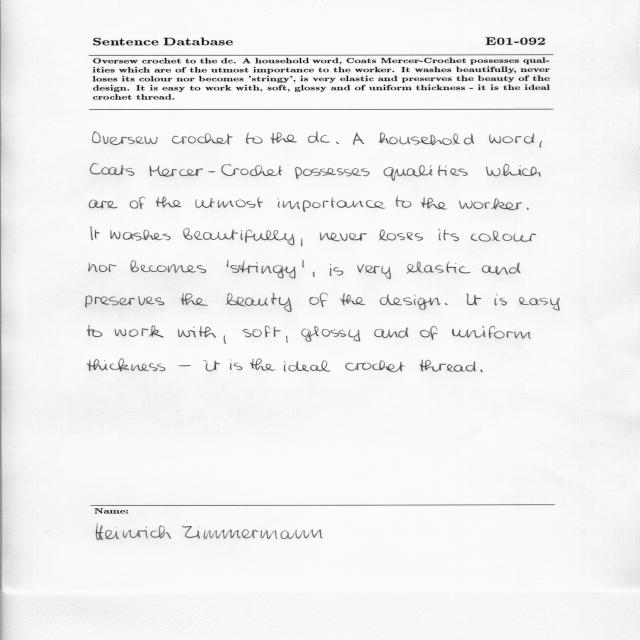word: (183, 228, 294, 245), (150, 164, 283, 177), (278, 197, 386, 212), (384, 165, 468, 181), (226, 293, 292, 312), (379, 133, 475, 145), (230, 261, 296, 278), (452, 326, 531, 339), (86, 295, 164, 308), (87, 359, 165, 372), (130, 260, 206, 273), (380, 294, 441, 310), (301, 326, 360, 342), (93, 131, 158, 145), (295, 167, 370, 179), (407, 261, 471, 274), (459, 198, 522, 210), (419, 359, 476, 372), (172, 133, 233, 145), (471, 231, 536, 242), (195, 198, 263, 208), (110, 230, 171, 241), (486, 164, 541, 176), (345, 361, 405, 372), (115, 326, 164, 338), (90, 163, 134, 176), (284, 360, 330, 372), (519, 297, 560, 310), (357, 265, 391, 280), (489, 133, 534, 144), (482, 262, 520, 275), (379, 230, 423, 241), (178, 326, 216, 338), (320, 233, 367, 242), (243, 326, 281, 337), (308, 131, 339, 144), (374, 327, 409, 338), (180, 293, 208, 306), (421, 197, 447, 210), (271, 132, 297, 144), (341, 293, 366, 305), (250, 359, 275, 371), (89, 263, 117, 273), (309, 293, 328, 307), (90, 200, 118, 209), (438, 229, 459, 241), (420, 326, 438, 340), (156, 197, 181, 207), (246, 132, 263, 144), (130, 197, 146, 209), (203, 360, 220, 371), (87, 325, 102, 337), (396, 197, 412, 208), (467, 293, 481, 305), (330, 264, 343, 276), (494, 294, 507, 306), (353, 132, 364, 145), (230, 359, 242, 370), (91, 227, 100, 240), (224, 335, 226, 344), (301, 239, 303, 247), (540, 141, 542, 148), (227, 260, 229, 267), (302, 261, 304, 268), (286, 336, 288, 343), (178, 365, 190, 366), (313, 272, 315, 277), (480, 370, 483, 373), (527, 207, 529, 210), (445, 303, 448, 305)
